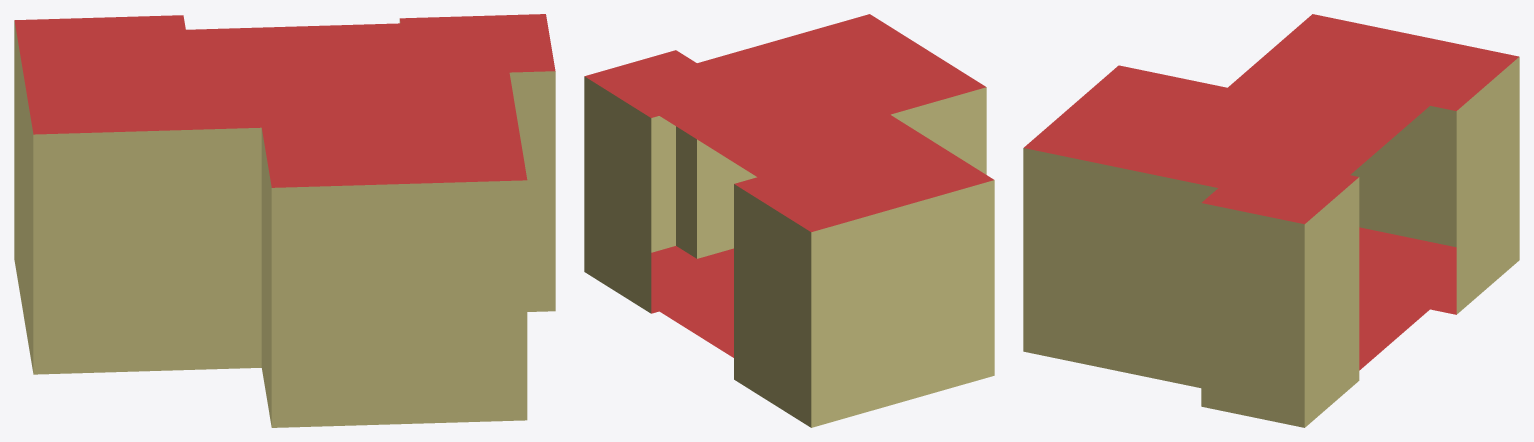
3 renders of one model, left to right at view 1: azimuth 30°, elevation 25°; view 2: azimuth 150°, elevation 25°; view 3: azimuth 270°, elevation 25°, orthographic. The views are drawn at different scales.
Bounding box in the file's own units: 22.36 × 22.29 × 10.1.
